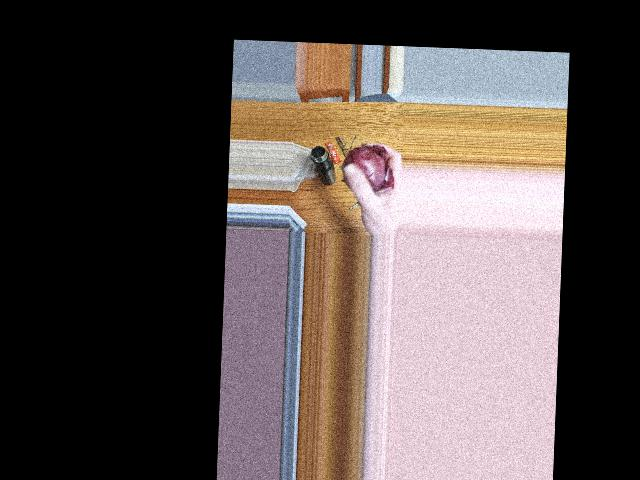onion: (348, 147, 390, 195)
